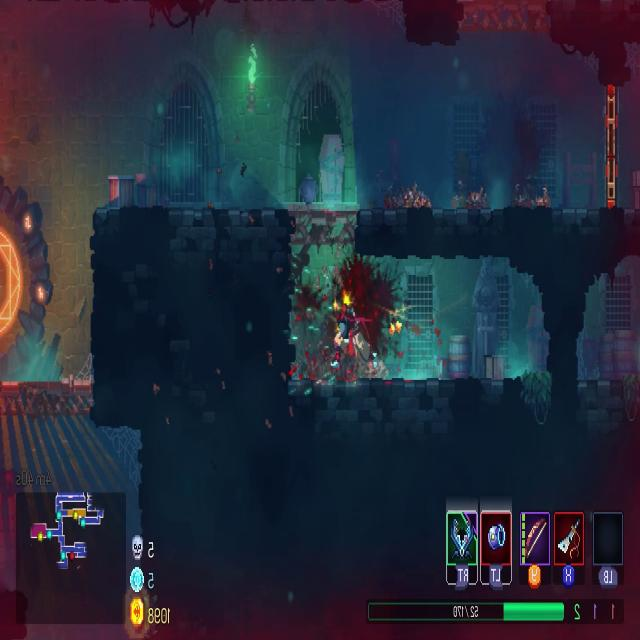agents: (330, 300, 368, 390)
door_regular: (604, 83, 617, 211)
wood_floor: (0, 374, 91, 420), (285, 204, 359, 248)
